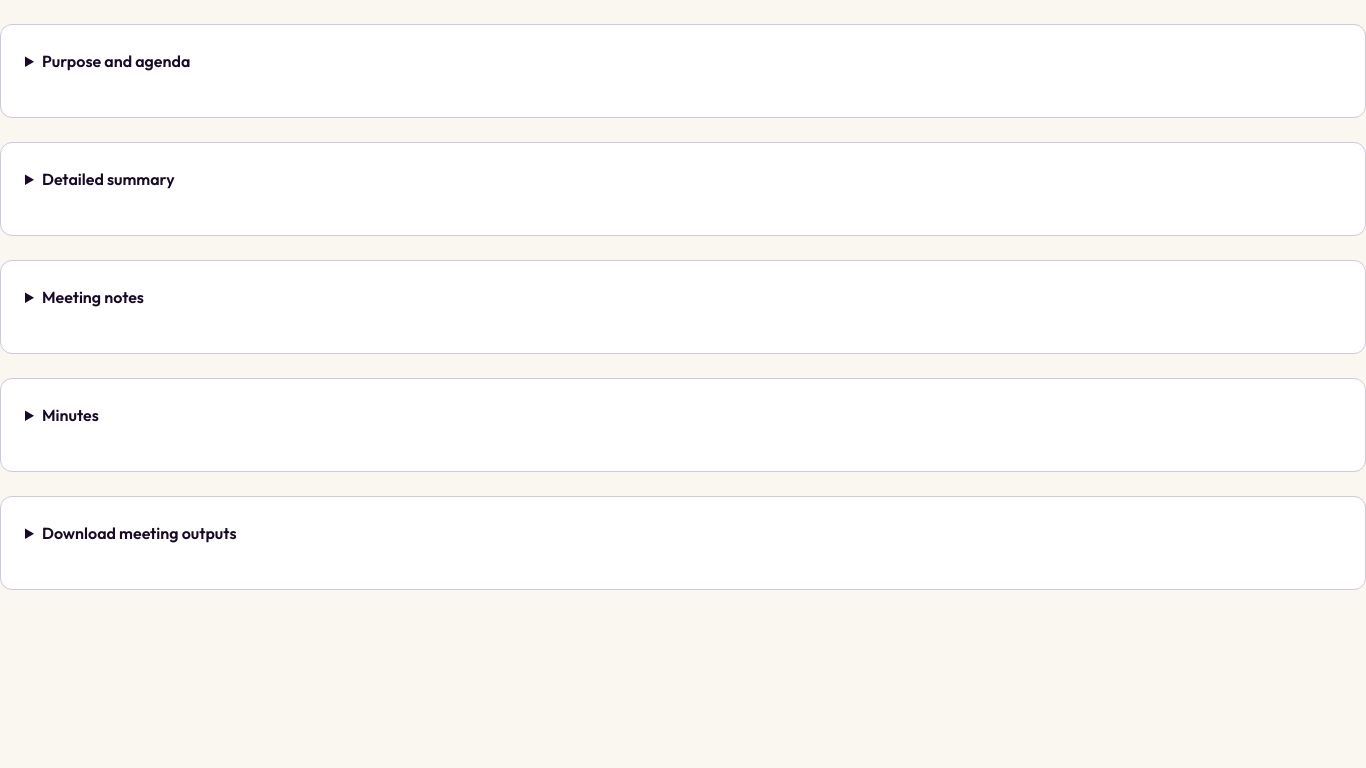
saves user notes independently without confirming graph/CRM writes
Click the heading "Meeting notes" at x=93, y=297, box [42, 287, 144, 307]
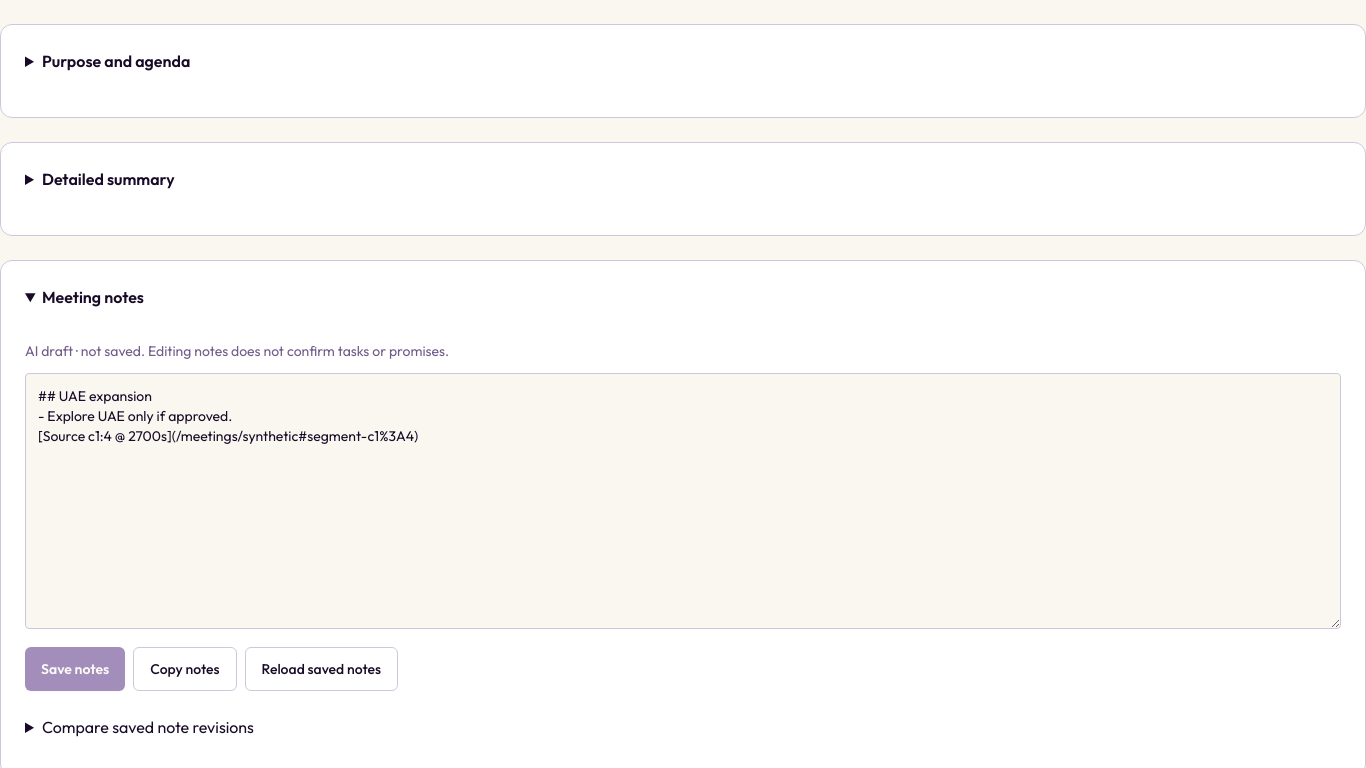
Replace the text in the text box named "Meeting notes" with "Reviewed by me" at x=683, y=501, box [25, 373, 1341, 629]
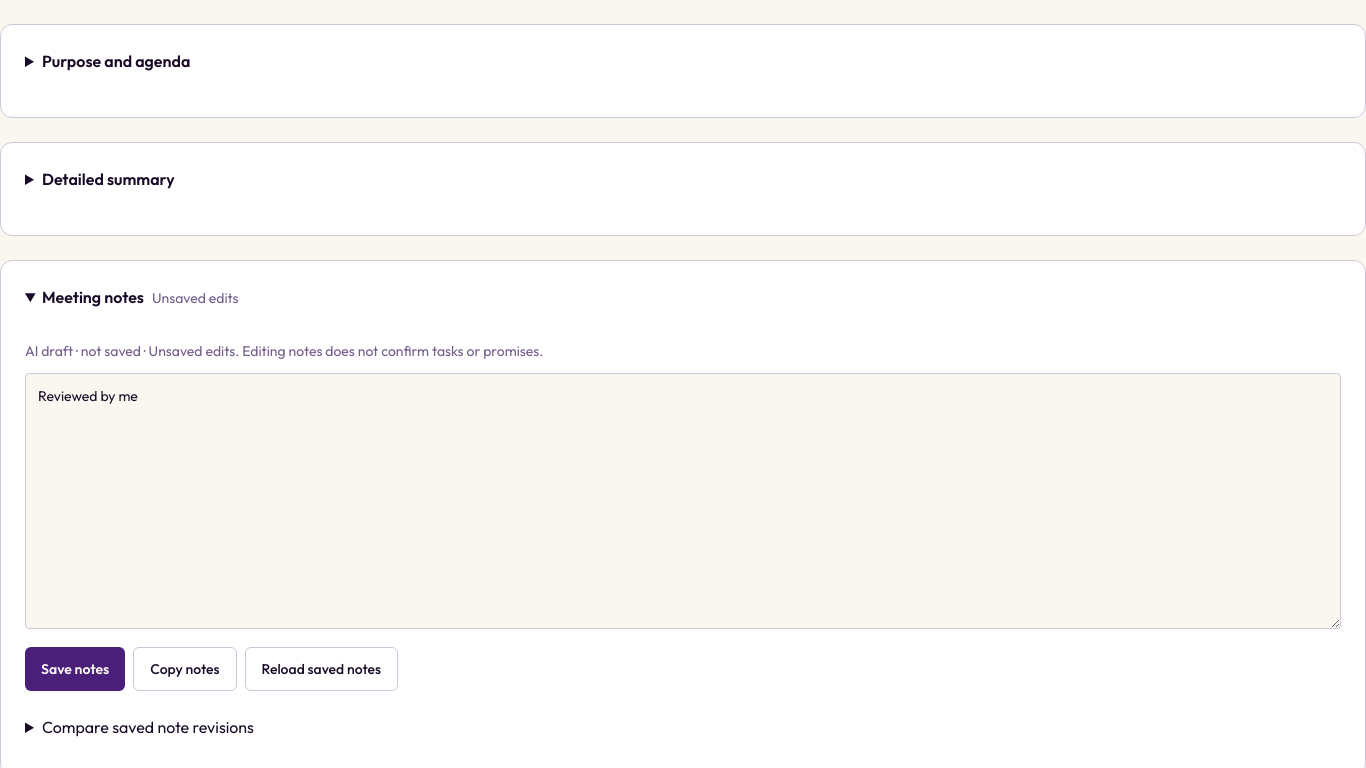
Click the button "Save notes" at x=75, y=669, box [25, 647, 125, 691]
(page scrolled)
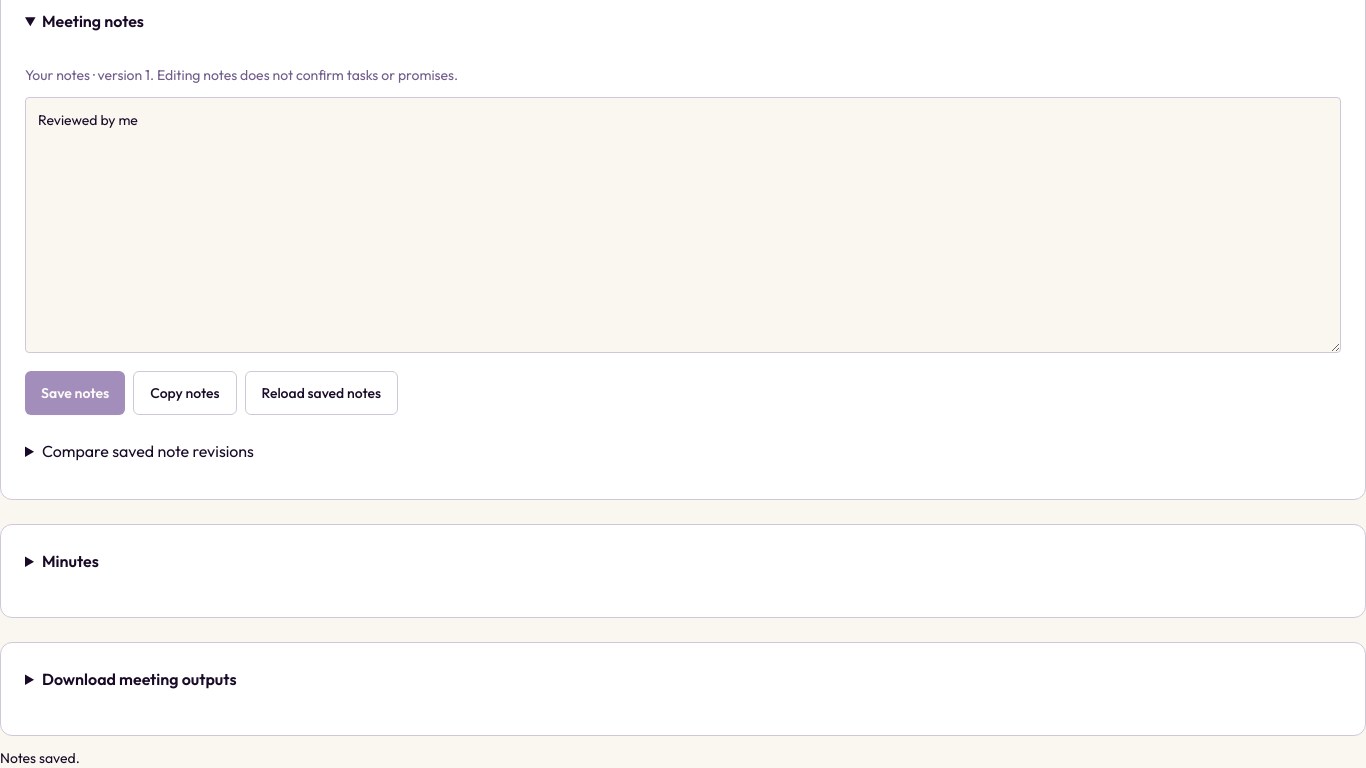
Now the message reads "Notes saved.", box [0, 749, 80, 767]
